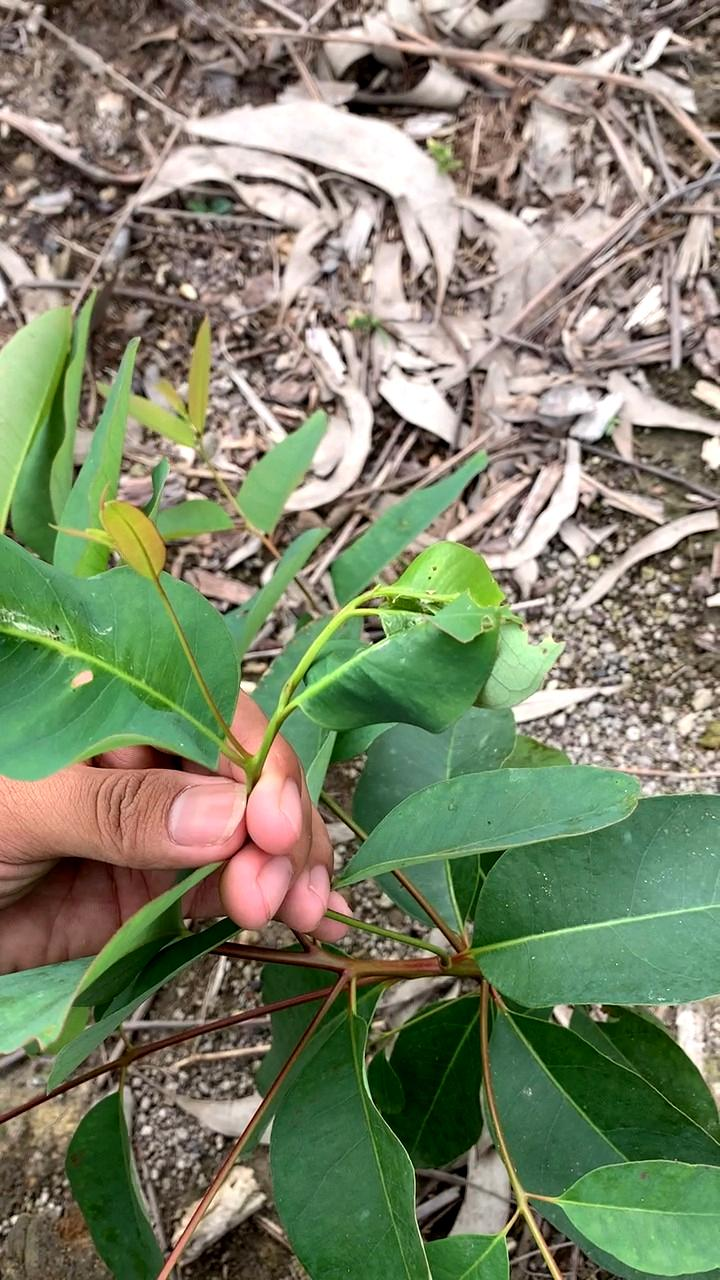Leaf Roller - Leaf: (286, 570, 567, 751)
